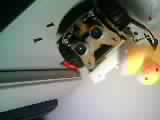duck: (124, 27, 157, 91)
